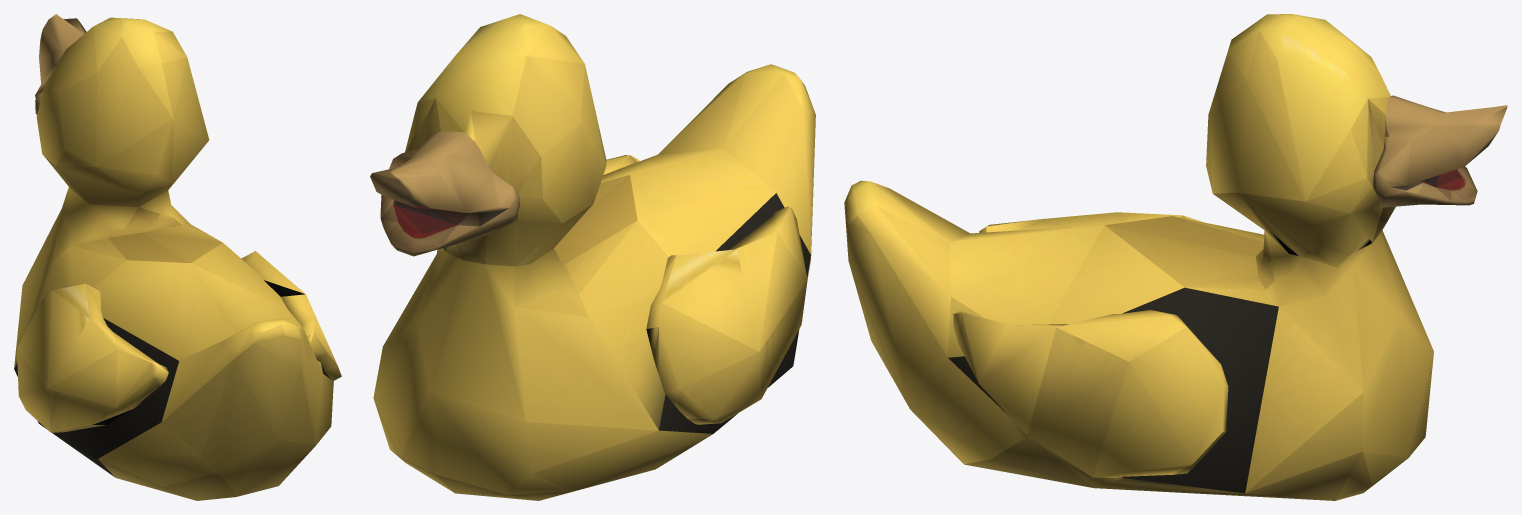
Rendered from Rubber Duck.FBX.
3 renders of one model, left to right at view 1: azimuth 30°, elevation 25°; view 2: azimuth 150°, elevation 25°; view 3: azimuth 270°, elevation 25°, orthographic. The views are drawn at different scales.
Parts seen in each view (by area): view 1: 10602_Rubber_Duck_v1; view 2: 10602_Rubber_Duck_v1; view 3: 10602_Rubber_Duck_v1.
Boxes of the visible parts, <box> form: 10602_Rubber_Duck_v1: <box>14,14,341,500</box>; 10602_Rubber_Duck_v1: <box>370,14,815,500</box>; 10602_Rubber_Duck_v1: <box>844,14,1507,500</box>.
Size of the model in its own units: 18.85 by 34.08 by 25.26.
Materials: 1 (1 with a texture image).
